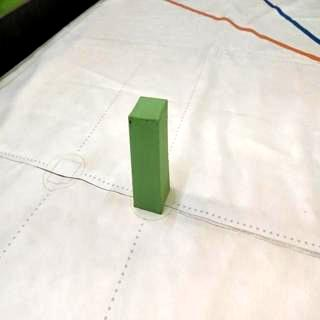greenbox: (128, 95, 172, 211)
